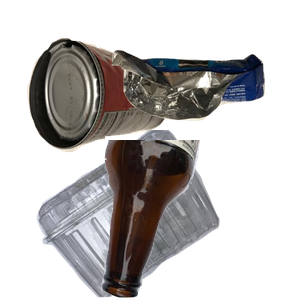glass: (99, 140, 300, 300)
metal: (25, 35, 189, 180)
plastic: (34, 130, 246, 300)
trash: (109, 47, 300, 160)
